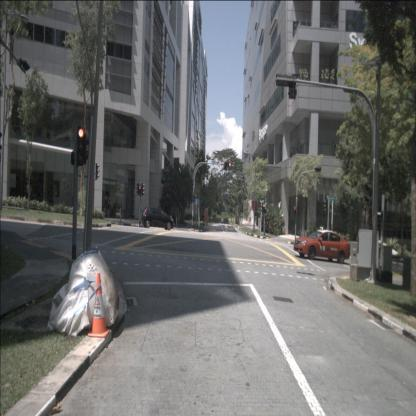human-pedestrian-adult: (107, 197, 112, 218)
vehicle-car: (293, 229, 351, 264), (141, 207, 174, 231)
